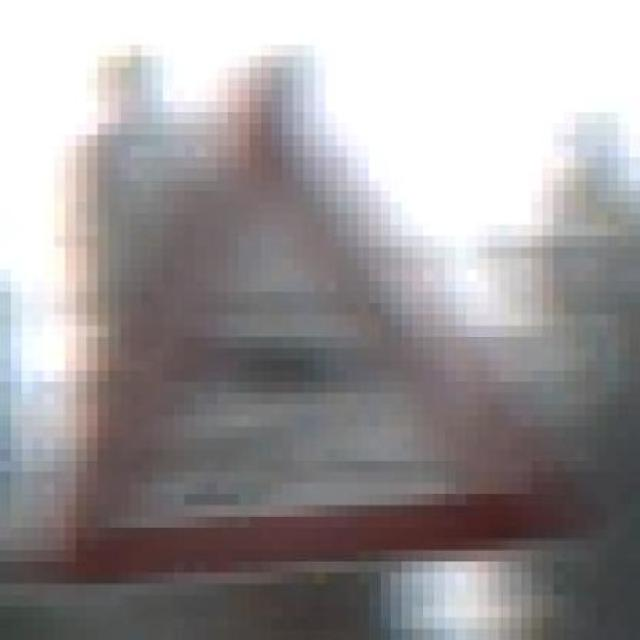Slippery Road Ahead: (53, 56, 564, 573)
